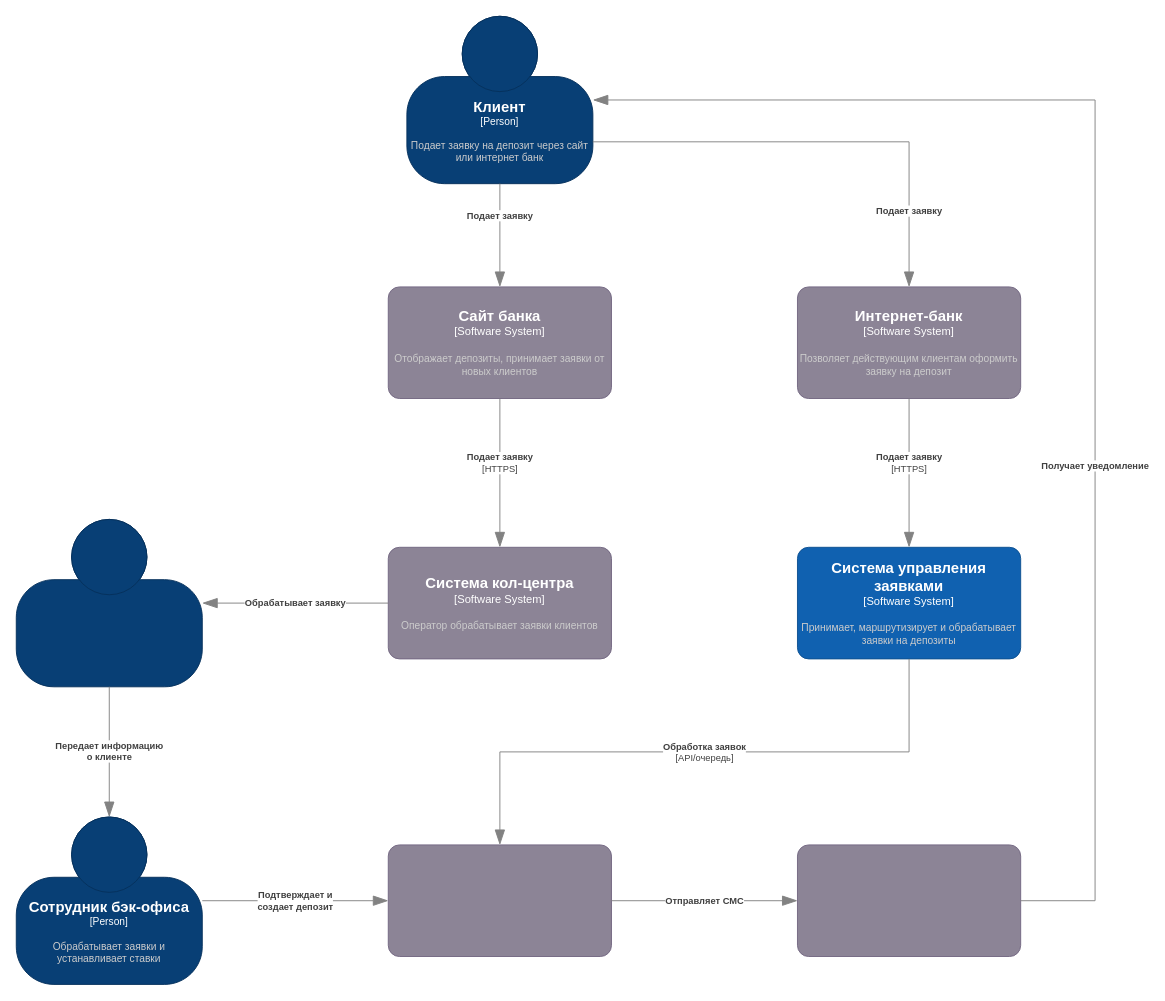
Some shapes in this 1165 by 1001 pixel diagram are drawn without their labels. Here are the shapes that lost their labels. From the top down, the centre of each, then its label:
point 108,602: Оператор кол-центра [Person] Обрабатывает заявки с сайта
point 499,900: АБС [Software System] Обработка заявок, хранение ставок, создание депозитов
point 909,900: СМС-шлюз [Software System] Отправка уведомлений клиентам
